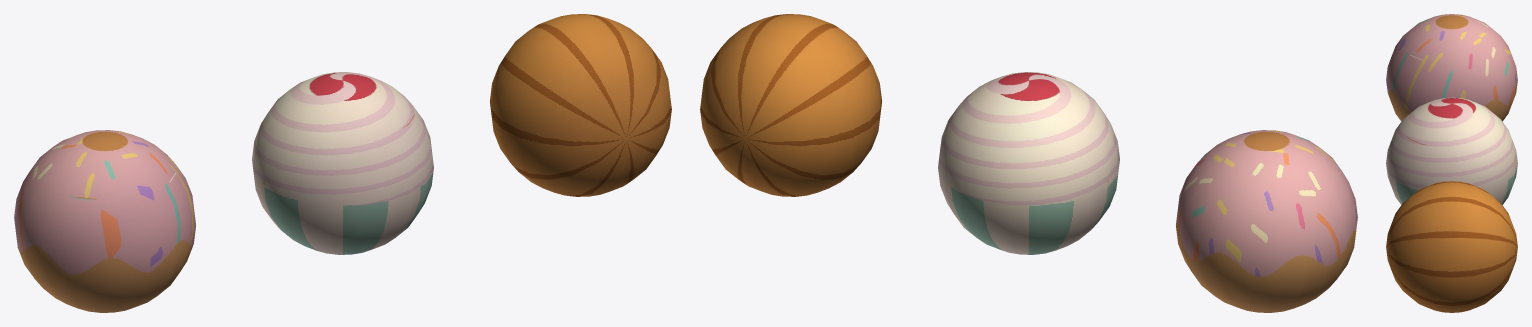
File: ball_skins.glb
The picture shows the model from 3 angles, left to right: view 1: azimuth 30°, elevation 25°; view 2: azimuth 150°, elevation 25°; view 3: azimuth 270°, elevation 25°; orthographic projection. The views are drawn at different scales.
Visible parts, largest first — view 1: SkinCupcake, SkinCroissant, SkinDonut; view 2: SkinCupcake, SkinCroissant, SkinDonut; view 3: SkinCroissant, SkinCupcake, SkinDonut.
Part boxes in pixels (box(x1,y1,x2,y2)): SkinCupcake: box(252, 72, 433, 254); SkinCroissant: box(490, 14, 671, 196); SkinDonut: box(14, 130, 195, 312); SkinCupcake: box(938, 72, 1119, 254); SkinCroissant: box(700, 14, 881, 196); SkinDonut: box(1176, 130, 1357, 312); SkinCroissant: box(1386, 181, 1517, 312); SkinCupcake: box(1386, 97, 1517, 204); SkinDonut: box(1386, 14, 1517, 121).
Bounding box in the file's own units: 0.48 × 0.12 × 0.12.
1 material, 1 textured.
